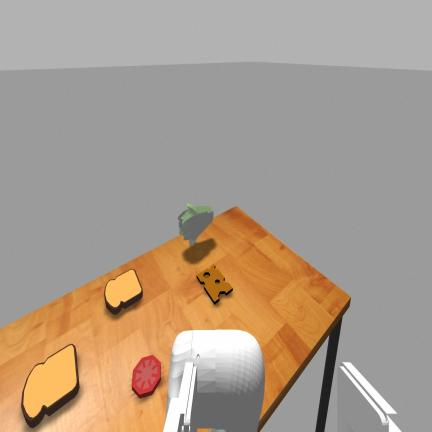cheese: (197, 265, 233, 304)
lettuce: (178, 204, 213, 245)
sliced_bread: (22, 344, 79, 427), (104, 269, 142, 314)
sliced_tomato: (132, 355, 160, 398)
